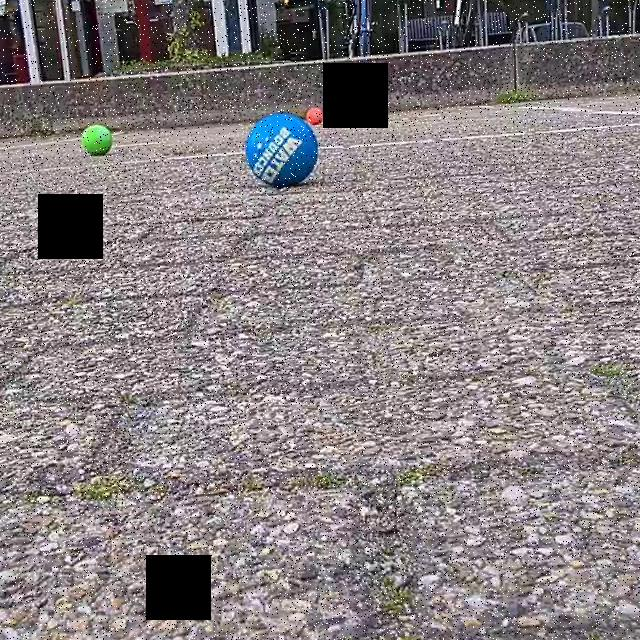ball: (79, 124, 113, 159), (305, 107, 325, 127)
